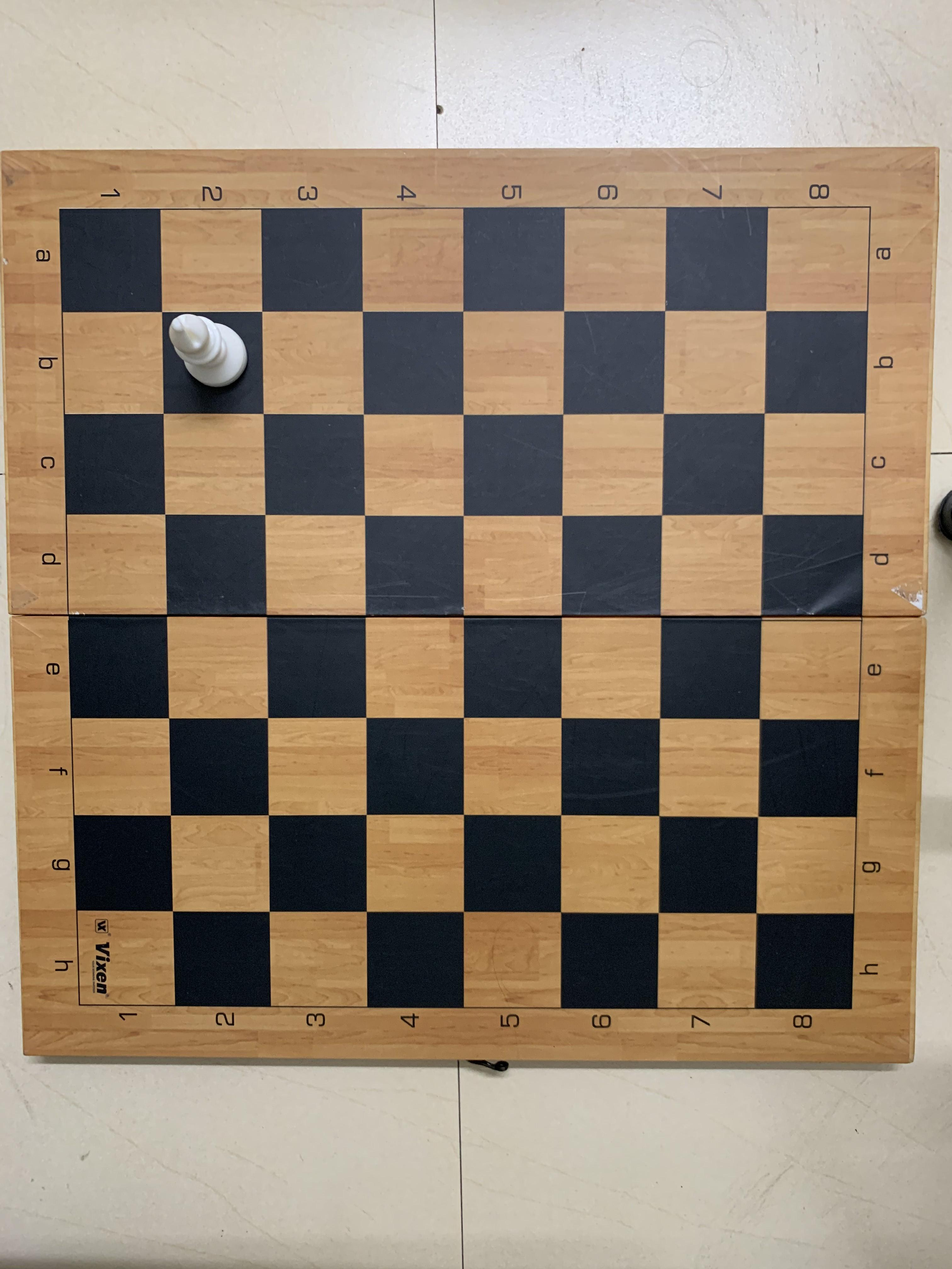white_bishop: (164, 306, 266, 411)
